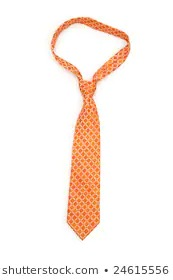F_tie: (43, 12, 136, 245)
